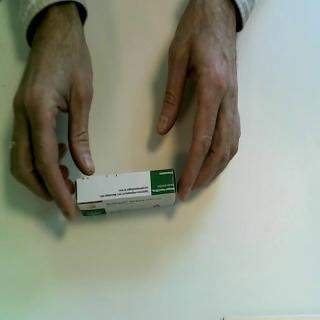nobligan_retard200mg: (75, 168, 179, 218)
